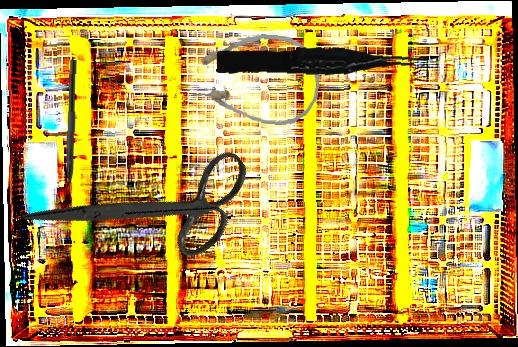Cannula: (189, 29, 322, 128)
Chopper: (57, 59, 77, 204)
Iris Scissors: (21, 88, 272, 327)
Tissue Forceps: (216, 41, 415, 84)
